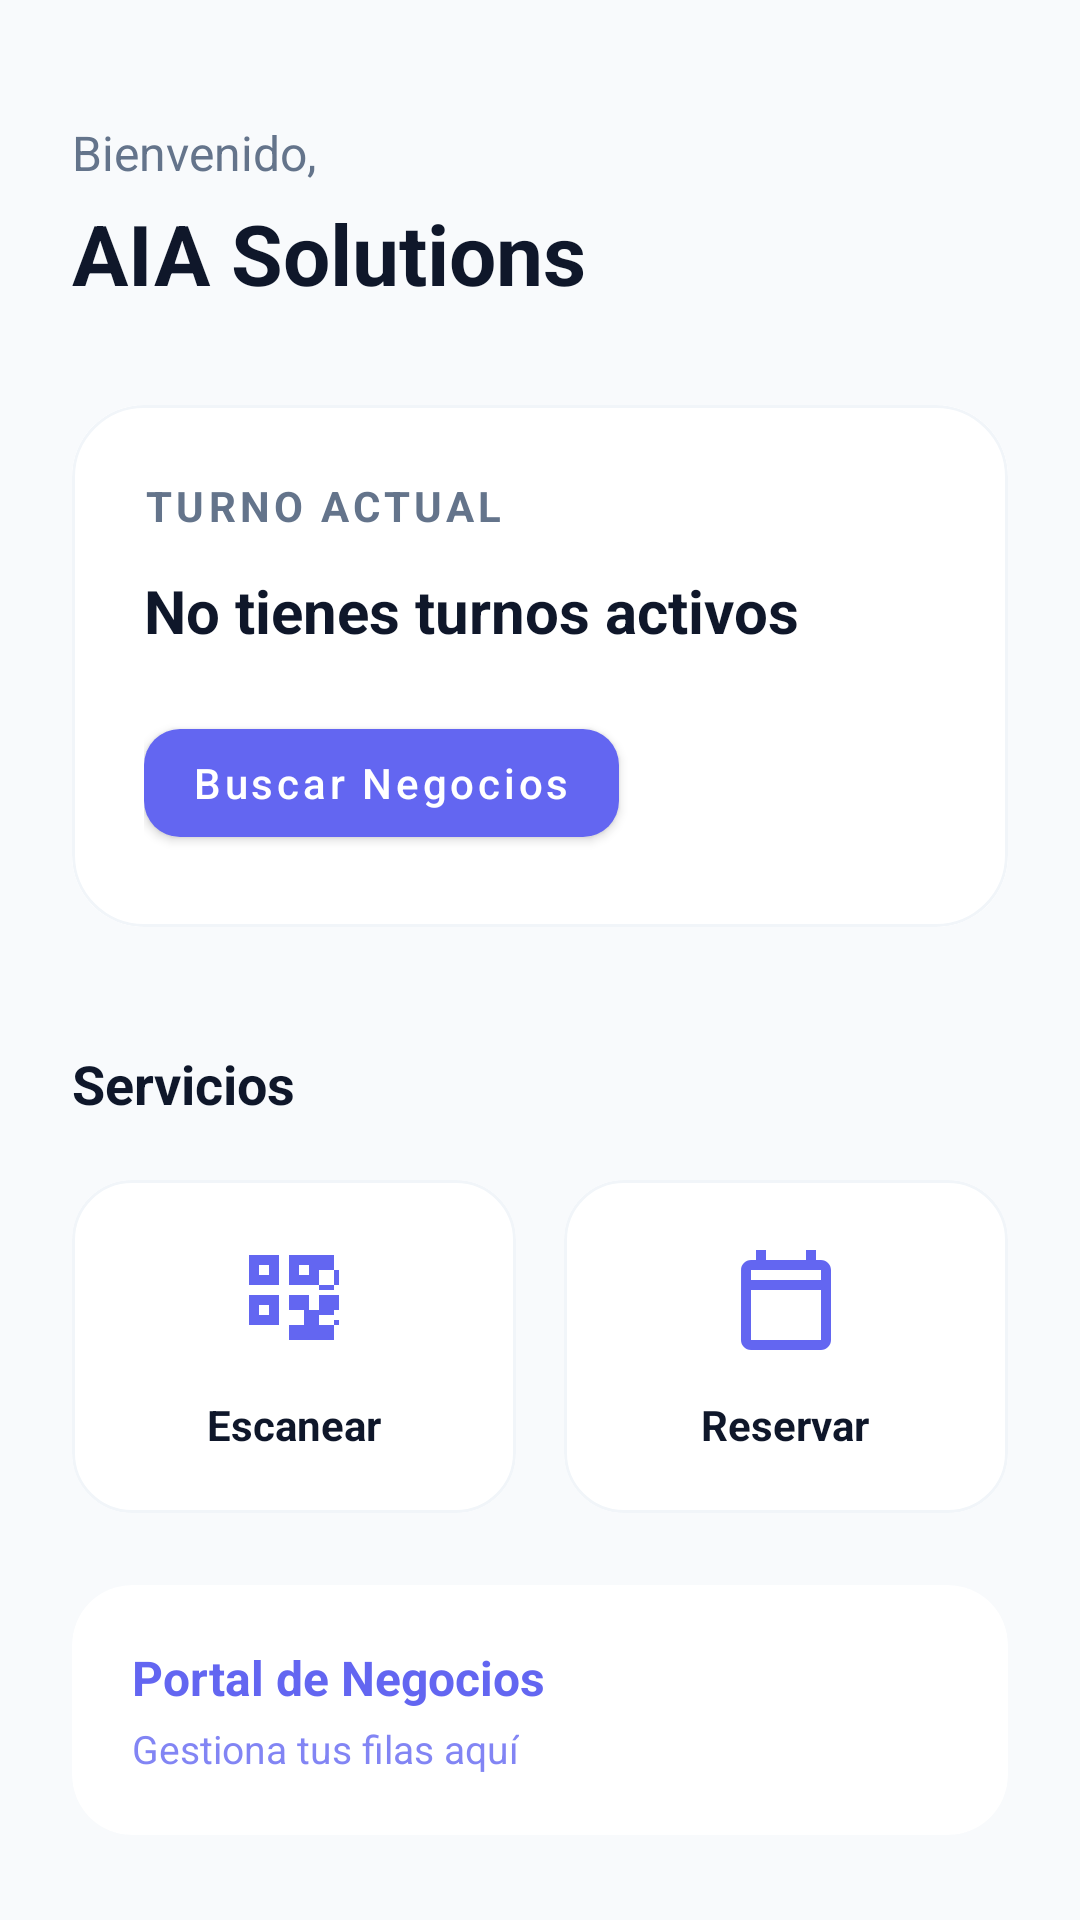

Screen size 1080w x 1920h. Icon name, then its box in pixels as box=[x1, y1, x2, y2]:
calendar: box=[741, 1250, 831, 1350]
qr code: box=[249, 1255, 339, 1340]
